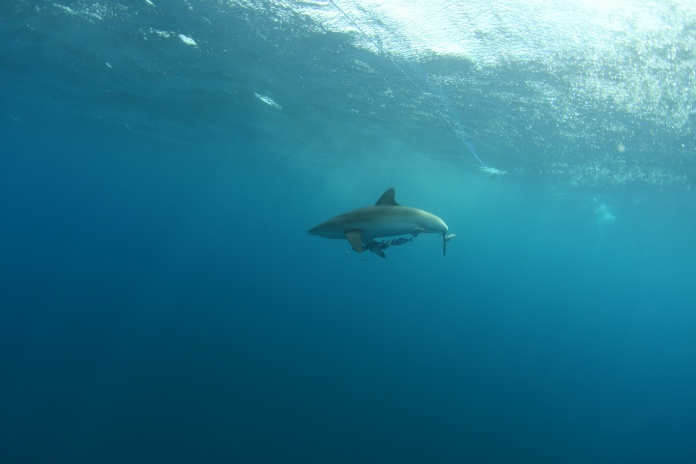Sedoso: (297, 179, 470, 277)
